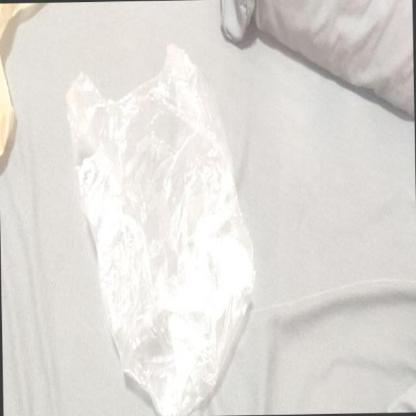Plastic Bag: (63, 44, 258, 414)
